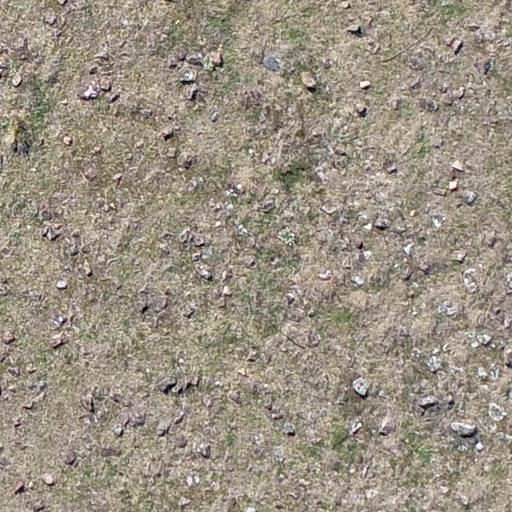stone: (348, 377, 374, 398), (40, 222, 62, 242), (450, 421, 477, 437), (487, 402, 507, 422), (378, 414, 396, 436), (157, 376, 177, 394), (474, 57, 492, 77), (162, 124, 182, 142), (92, 43, 110, 62), (178, 152, 197, 170), (80, 82, 99, 100), (418, 97, 439, 113), (446, 37, 464, 55), (21, 394, 39, 412), (129, 410, 147, 428), (409, 54, 428, 71), (458, 188, 478, 204), (80, 393, 96, 413), (11, 35, 27, 55), (156, 418, 173, 436), (185, 52, 204, 68), (179, 68, 197, 84), (50, 331, 66, 349), (448, 250, 468, 264), (306, 328, 320, 348), (195, 264, 212, 280), (263, 58, 282, 72), (418, 396, 438, 409), (227, 390, 243, 406), (426, 356, 442, 372), (152, 298, 168, 314), (196, 442, 211, 458), (184, 85, 199, 101), (2, 330, 16, 346), (63, 449, 77, 465), (484, 233, 498, 249), (251, 48, 265, 64), (320, 204, 338, 216), (82, 258, 94, 276), (173, 434, 188, 448), (354, 103, 368, 117), (282, 422, 296, 436), (98, 78, 112, 92), (44, 12, 58, 26), (367, 41, 381, 55), (419, 262, 433, 276), (408, 77, 422, 91), (374, 218, 390, 230), (346, 23, 362, 35), (476, 334, 492, 346), (11, 72, 23, 88), (374, 191, 388, 204), (6, 366, 20, 379), (42, 473, 56, 486), (13, 480, 26, 494), (40, 208, 54, 221), (182, 306, 196, 318), (106, 92, 120, 104), (192, 236, 206, 248), (390, 97, 402, 111), (450, 160, 464, 172), (262, 200, 276, 212), (140, 108, 154, 120), (432, 187, 448, 197), (246, 348, 257, 362), (402, 267, 413, 281), (318, 269, 332, 280), (207, 112, 221, 123), (244, 256, 256, 268), (166, 146, 178, 158), (56, 278, 68, 290), (111, 172, 123, 184), (112, 424, 124, 436), (176, 50, 188, 62), (360, 79, 373, 90), (456, 86, 466, 100), (321, 57, 332, 69), (217, 296, 227, 309), (69, 243, 79, 256), (62, 136, 74, 146), (222, 284, 232, 296), (237, 367, 249, 377), (286, 293, 296, 305), (386, 164, 397, 174), (26, 364, 37, 374), (88, 66, 98, 75), (340, 1, 350, 9), (214, 220, 222, 228), (109, 202, 116, 211)
